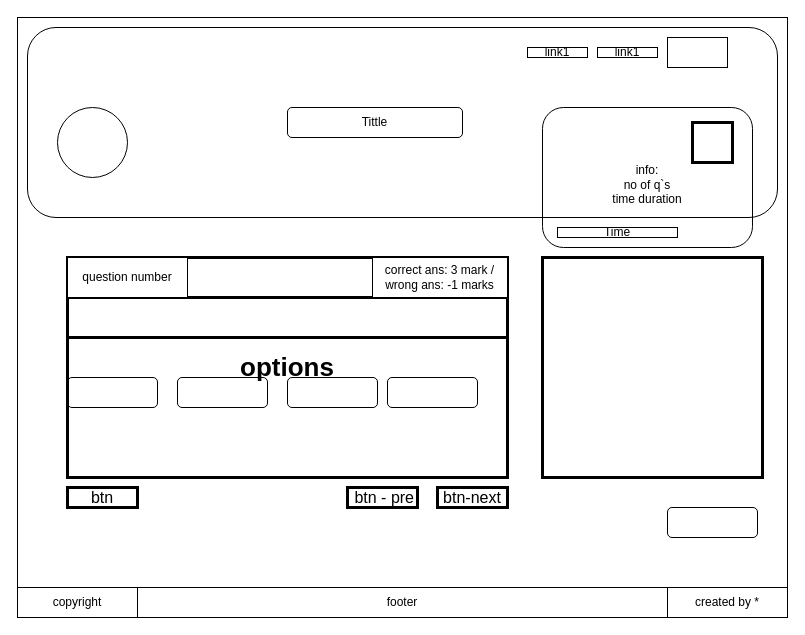
Some shapes in this 805 by 635 pixel diagram are drawn without their labels. Here are the shapes that lost their labels. From the top down, the centre of each, then its label:
(x=697, y=52): login
(x=92, y=142): logo
(x=712, y=142): cal
(x=287, y=317): question
(x=652, y=367): q numbers
(x=712, y=522): submit
